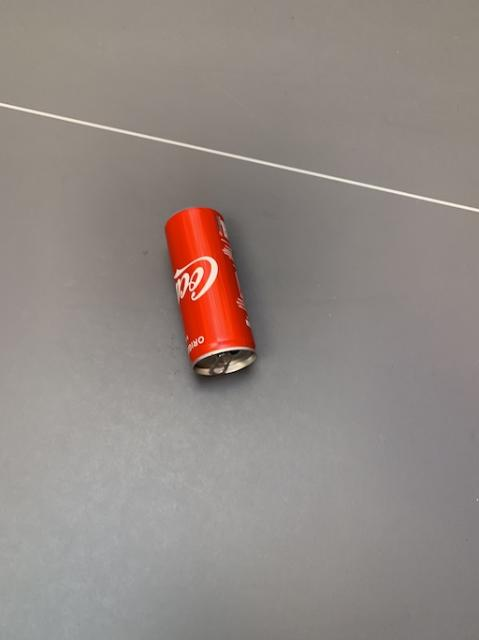metal: (165, 206, 255, 374)
